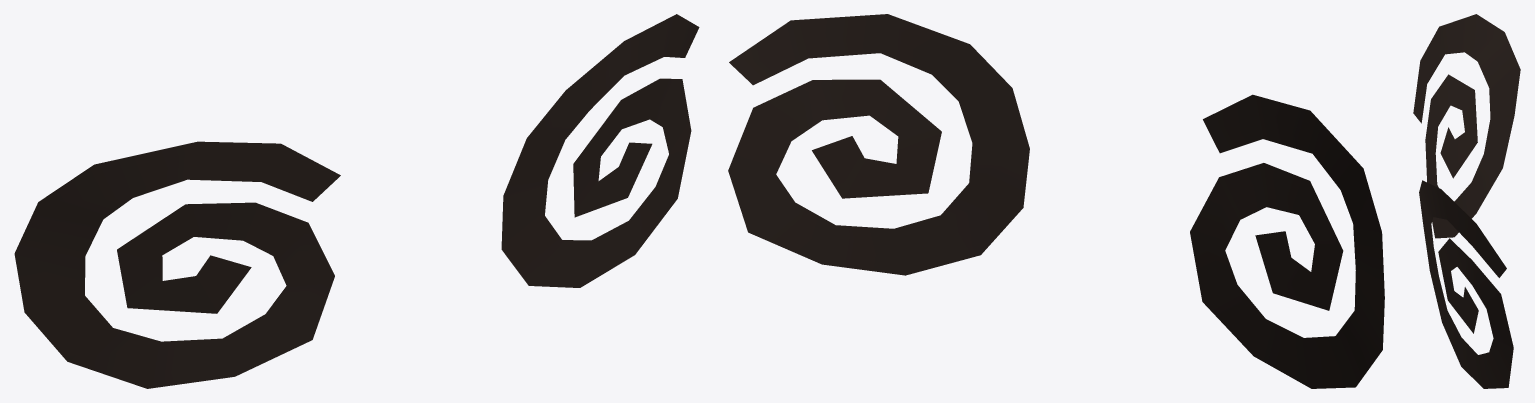
File: Eye_3.fbx
The picture shows the model from 3 angles, left to right: view 1: azimuth 30°, elevation 25°; view 2: azimuth 150°, elevation 25°; view 3: azimuth 270°, elevation 25°; orthographic projection. The views are drawn at different scales.
Parts seen in each view (by area): view 1: Eye_3; view 2: Eye_3; view 3: Eye_3.
Boxes of the visible parts, left/top/right/bottom form: Eye_3: left=14, top=14, right=699, bottom=388; Eye_3: left=728, top=14, right=1384, bottom=388; Eye_3: left=1413, top=14, right=1520, bottom=388.
Size of the model in its own units: 33.82 by 12.38 by 6.12.
